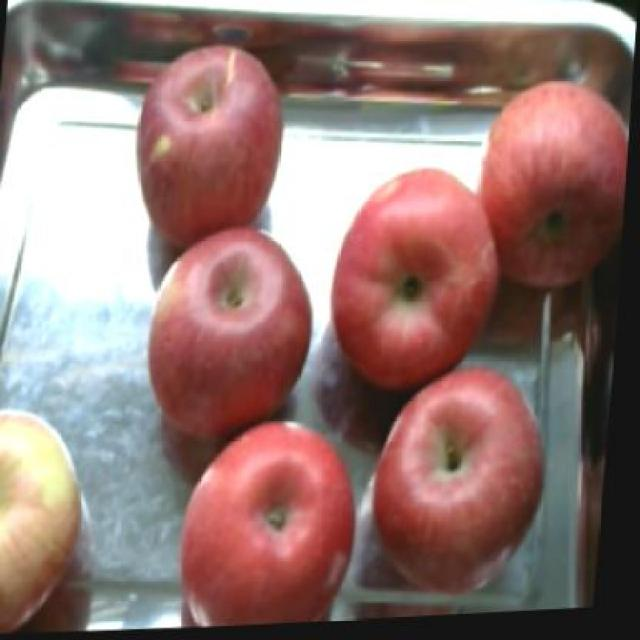Fresh Apple: (174, 415, 349, 640), (368, 364, 540, 592), (333, 164, 496, 398), (477, 72, 640, 299), (127, 238, 311, 439), (127, 49, 280, 244), (0, 396, 92, 630)
